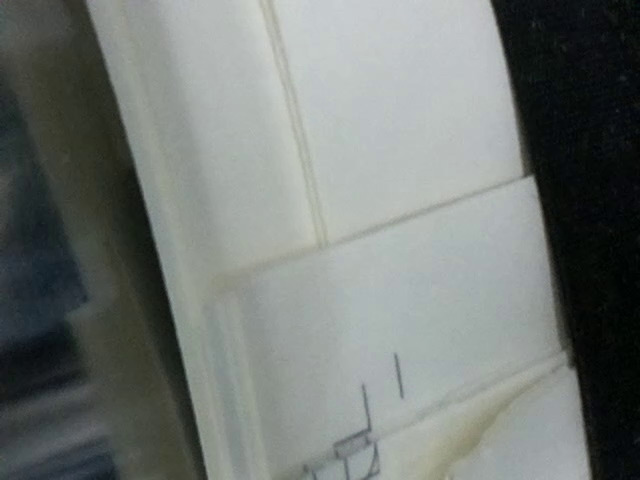misaligned: (288, 384, 416, 480)
